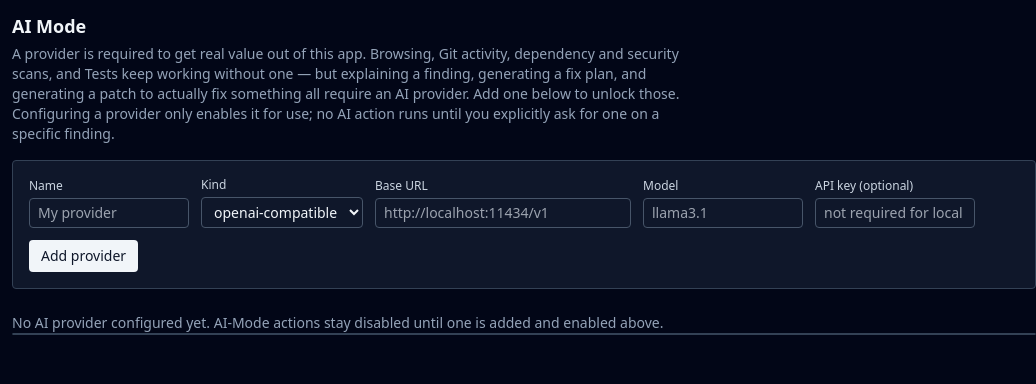
AiModePage › rejects submitting without a name
Check: the text "No AI provider configured yet" is shown, box 12,313 -> 664,332
Click the button "Add provider": (84, 256) 29,240 -> 138,272
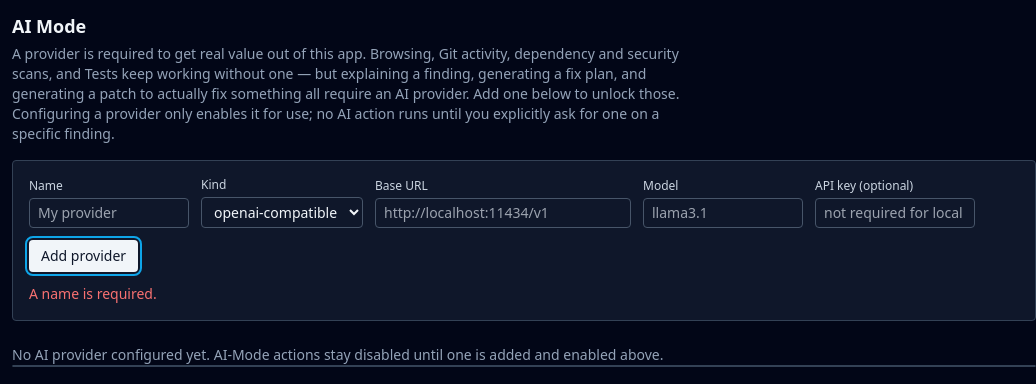
Check: the text "A name is required." is shown, box 29,284 -> 157,303
